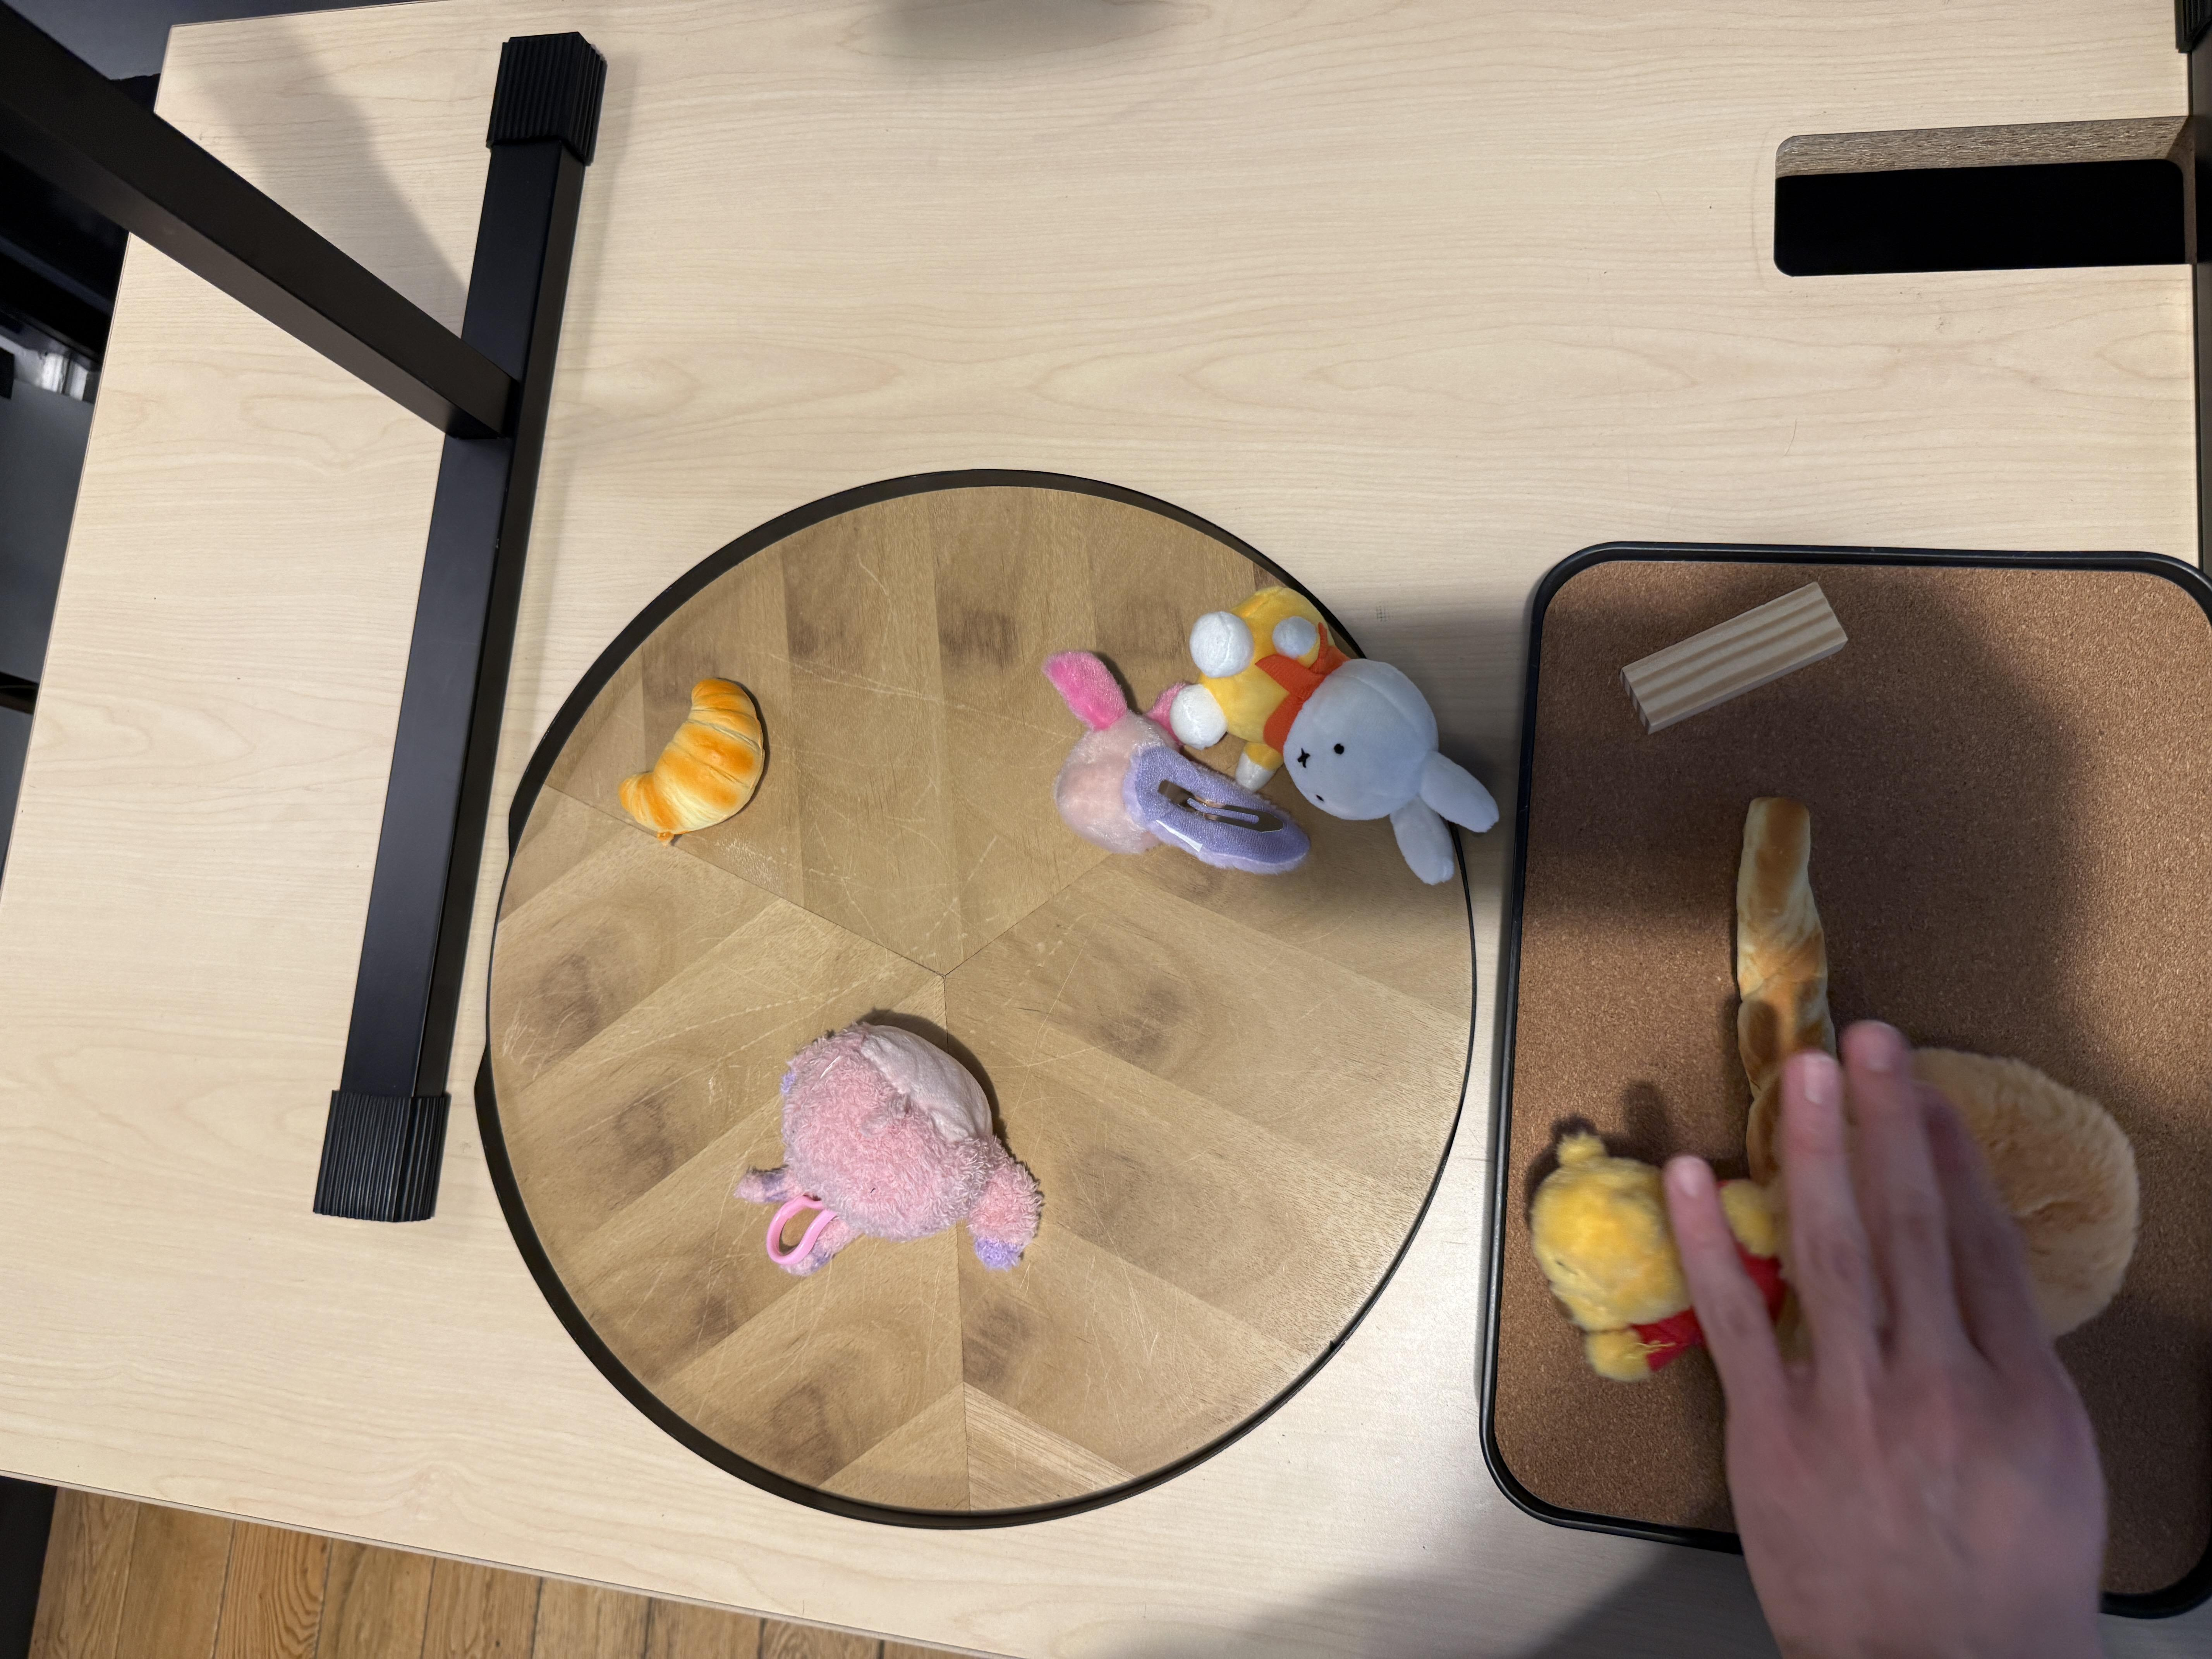block: (1616, 579, 1850, 728)
bread: (1743, 796, 1841, 1187), (622, 678, 770, 838)
doll: (1540, 1053, 2130, 1387), (1174, 586, 1514, 885), (738, 1023, 1047, 1276), (1052, 650, 1315, 870)
